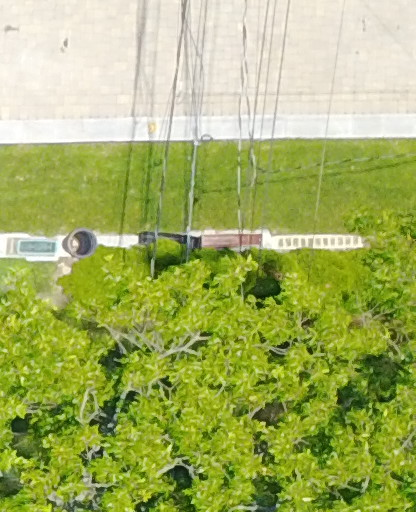container: (137, 220, 203, 252), (188, 222, 265, 248), (13, 230, 62, 270), (59, 228, 98, 260)
